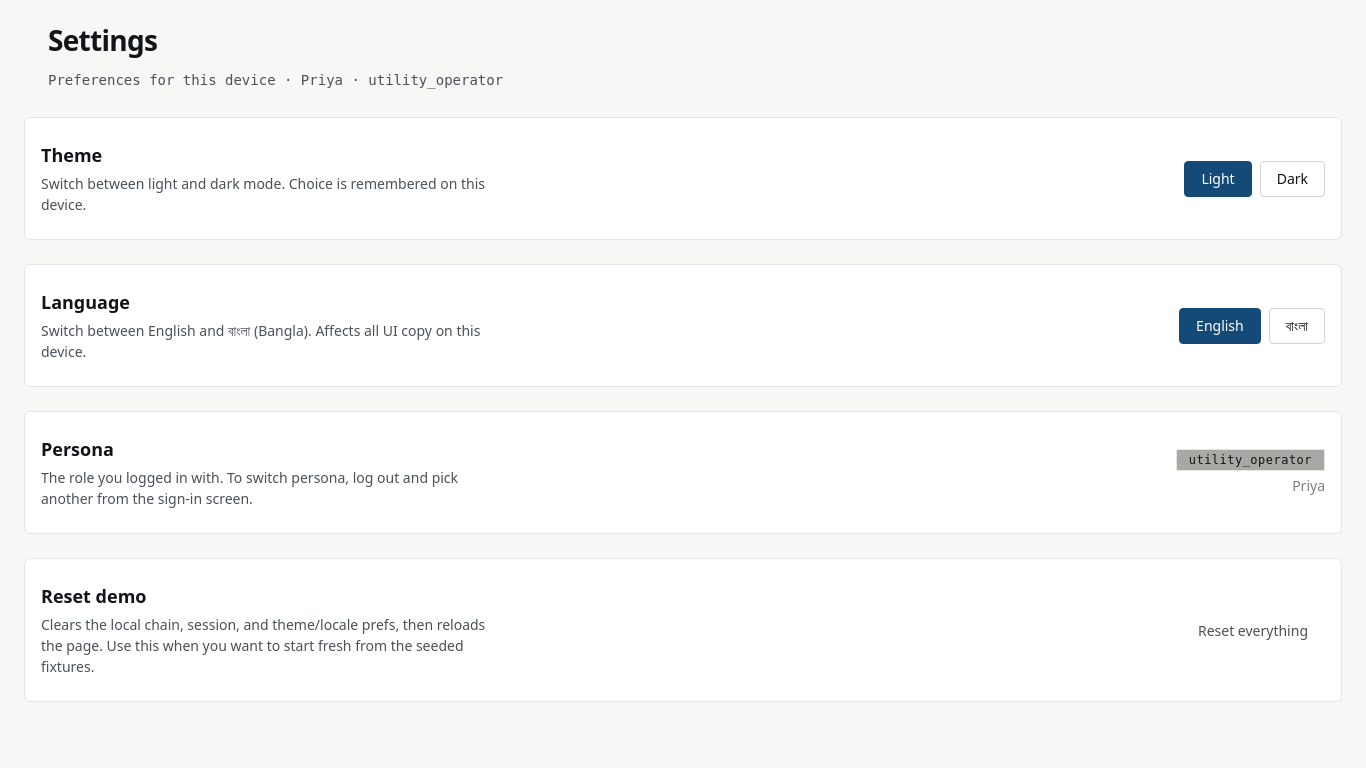
Test: FE-B6 Settings reset confirm-modal › cancelling_confirm_modal_closes_it_without_firing_post
The width and height of the screenshot is (1366, 768).
Click the button with test id "settings-reset-button": (1253, 630) left=1181, top=612, right=1325, bottom=648
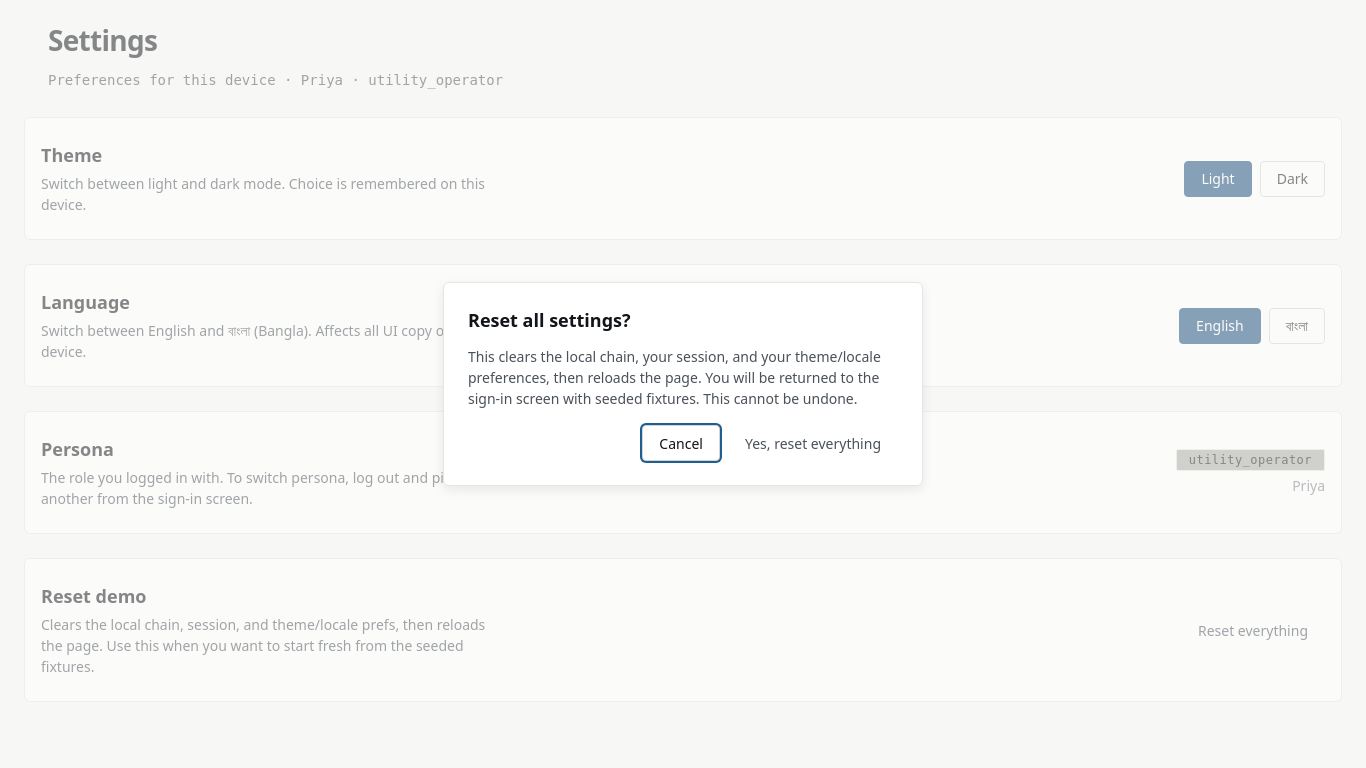
Result: the element with test id "settings-reset-confirm-modal" is shown
Click the button with test id "settings-reset-confirm-cancel": (681, 443) left=642, top=425, right=720, bottom=461
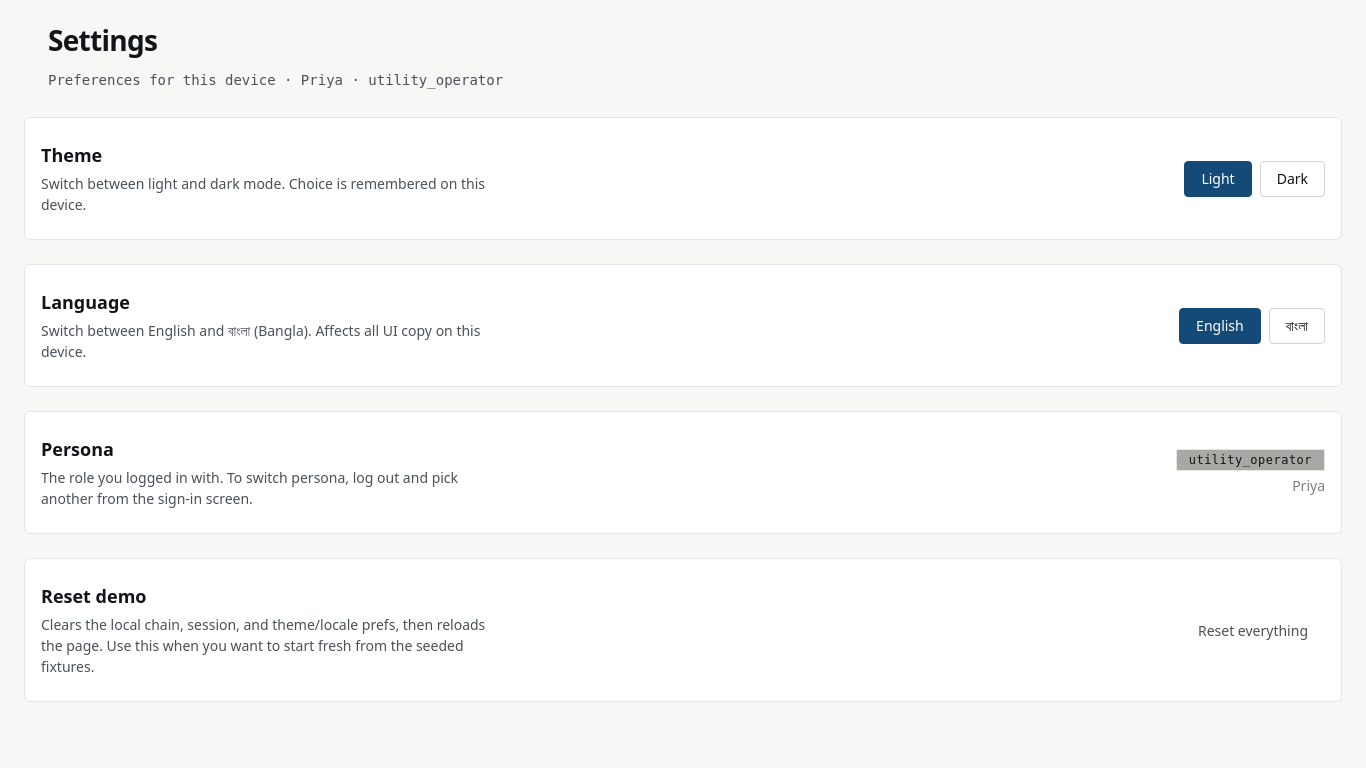
Result: the element with test id "settings-reset-confirm-modal" is gone
